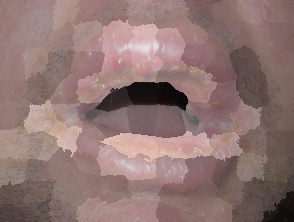SJS-TEN: (10, 27, 256, 173)
